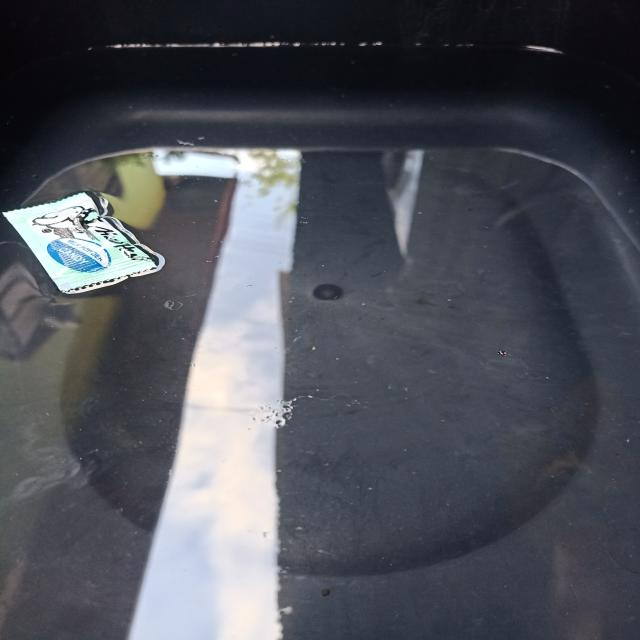Plastic Wrapper: (5, 188, 154, 297)
